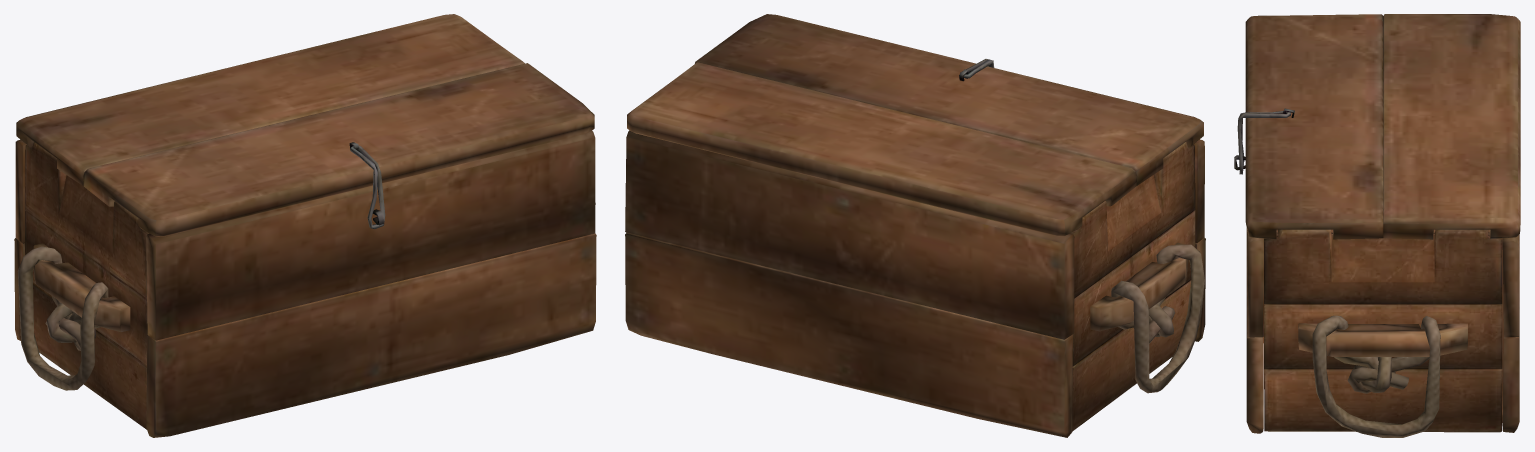
Rendered from wooden_crate_01.glb.
The picture shows the model from 3 angles, left to right: view 1: azimuth 30°, elevation 25°; view 2: azimuth 150°, elevation 25°; view 3: azimuth 270°, elevation 25°; orthographic projection. The views are drawn at different scales.
Visible parts, largest first — view 1: wooden_crate_01_lid; view 2: wooden_crate_01_lid; view 3: wooden_crate_01_lid.
Boxes of the visible parts, <box> form: wooden_crate_01_lid: <box>14,14,596,437</box>; wooden_crate_01_lid: <box>625,14,1205,437</box>; wooden_crate_01_lid: <box>1234,14,1520,437</box>.
Bounding box in the file's own units: 0.8245 × 0.3471 × 0.4069.
Materials: 1 (1 with a texture image).
